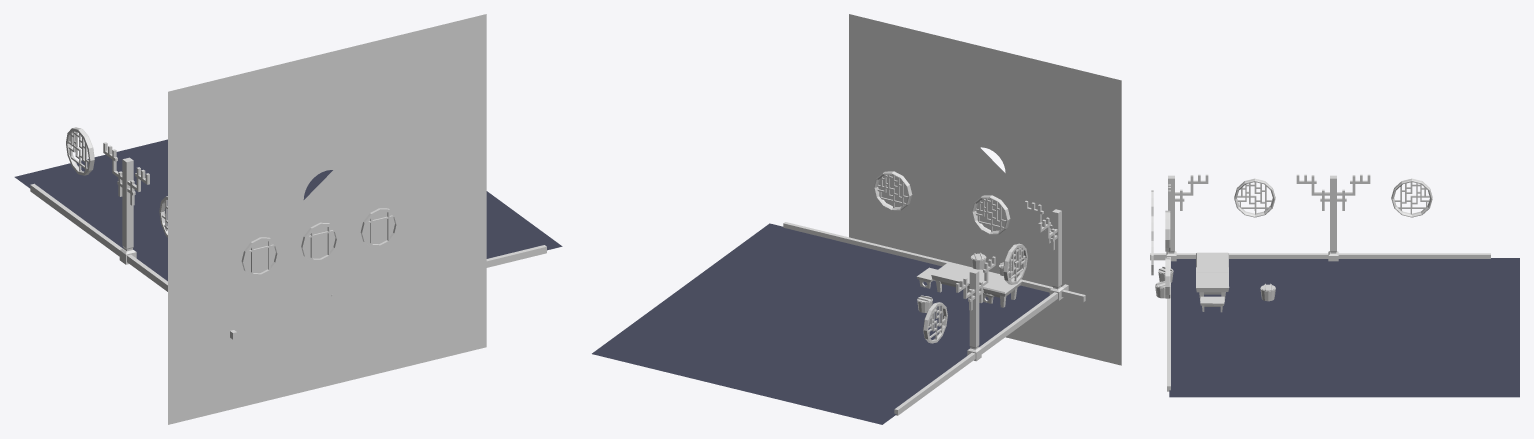
Rendered from Table.fbx.
The picture shows the model from 3 angles, left to right: view 1: azimuth 30°, elevation 25°; view 2: azimuth 150°, elevation 25°; view 3: azimuth 270°, elevation 25°; orthographic projection. The views are drawn at different scales.
Visible parts, largest first — view 1: Plane.001, Plane, Windows, Cube.004, Window, Pillar.001, Cube.005, Cube.006; view 2: Plane.001, Plane, Cube.006, Cube.004, Window, Windu, Pillar.001, Pillar, Table, Cube.001, Cube.005; view 3: Plane, Window, Cube.004, Cube.001, Table, Cube.005, Pillar.001, Pillar, Cube.006.
Part boxes in pixels (left/top/right/bottom): Plane.001: left=168, top=14, right=486, bottom=424; Plane: left=14, top=139, right=562, bottom=281; Windows: left=241, top=208, right=399, bottom=277; Cube.004: left=30, top=183, right=236, bottom=339; Window: left=66, top=127, right=167, bottom=237; Pillar.001: left=119, top=157, right=136, bottom=264; Cube.005: left=103, top=142, right=149, bottom=205; Cube.006: left=486, top=245, right=546, bottom=267; Plane.001: left=849, top=14, right=1121, bottom=365; Plane: left=592, top=223, right=1049, bottom=424; Cube.006: left=783, top=222, right=1085, bottom=302; Cube.004: left=894, top=284, right=1068, bottom=415; Window: left=923, top=243, right=1027, bottom=343; Windu: left=874, top=171, right=912, bottom=210; Pillar.001: left=967, top=269, right=981, bottom=361; Pillar: left=1049, top=209, right=1064, bottom=300; Table: left=967, top=270, right=1021, bottom=307; Cube.001: left=931, top=262, right=990, bottom=292; Cube.005: left=956, top=256, right=995, bottom=310; Plane: left=1169, top=258, right=1519, bottom=397; Window: left=1234, top=178, right=1432, bottom=217; Cube.004: left=1150, top=253, right=1490, bottom=260; Cube.001: left=1196, top=267, right=1229, bottom=302; Table: left=1196, top=252, right=1228, bottom=272; Cube.005: left=1296, top=174, right=1370, bottom=210; Pillar.001: left=1328, top=175, right=1338, bottom=261; Pillar: left=1166, top=175, right=1176, bottom=261; Cube.006: left=1167, top=257, right=1170, bottom=391.
Bounding box in the file's own units: 1603 × 1267 × 1514.
